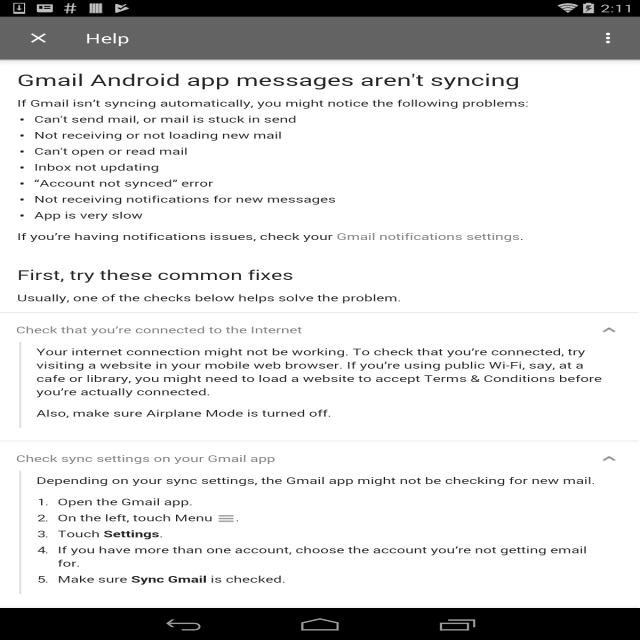Button: (0, 312, 639, 353), (0, 441, 639, 481), (0, 606, 639, 640)
ImageButton: (9, 17, 68, 59)
ImageView: (589, 22, 631, 54)
TextView: (85, 29, 130, 47)
